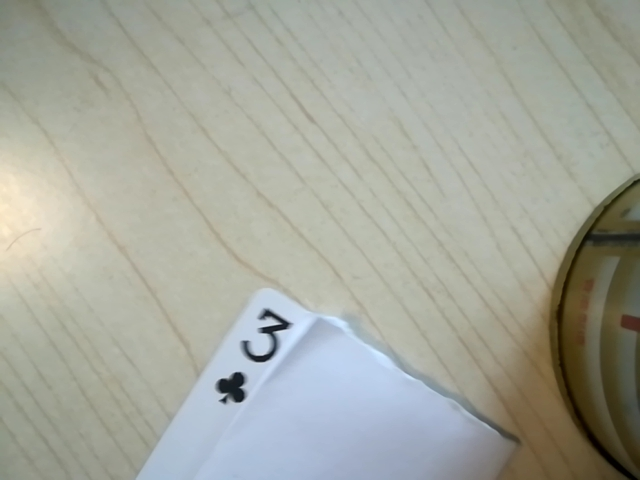mh 3: (209, 303, 308, 412)
